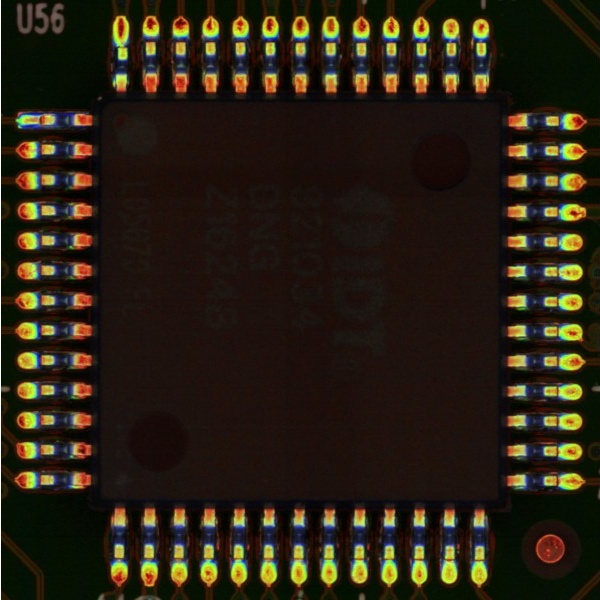Bad_podu: (29, 115, 45, 125)
